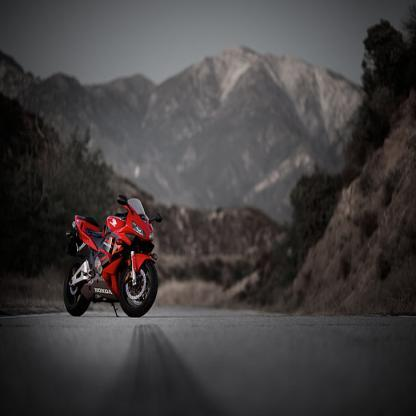Motorcycle: (63, 193, 161, 322)
